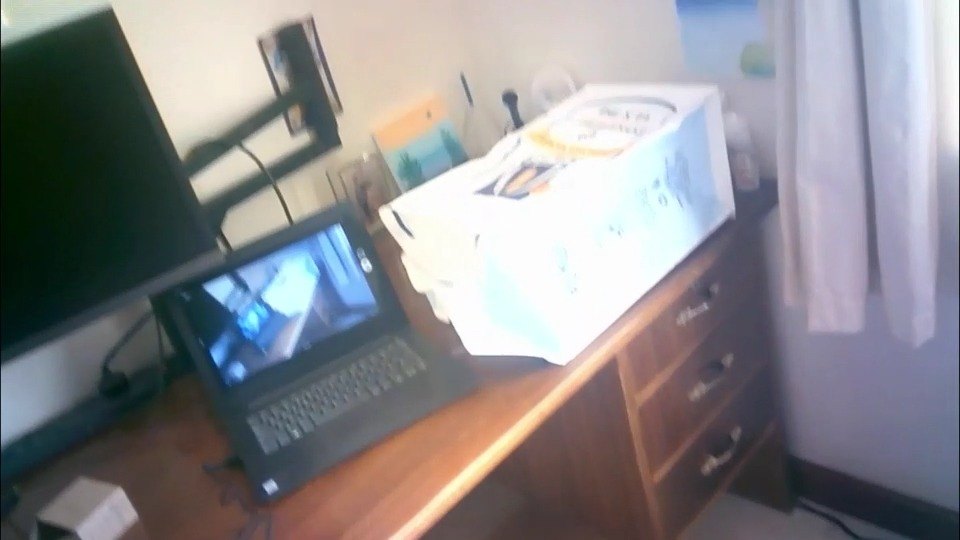maize_flour_green_label: (378, 86, 738, 361)
